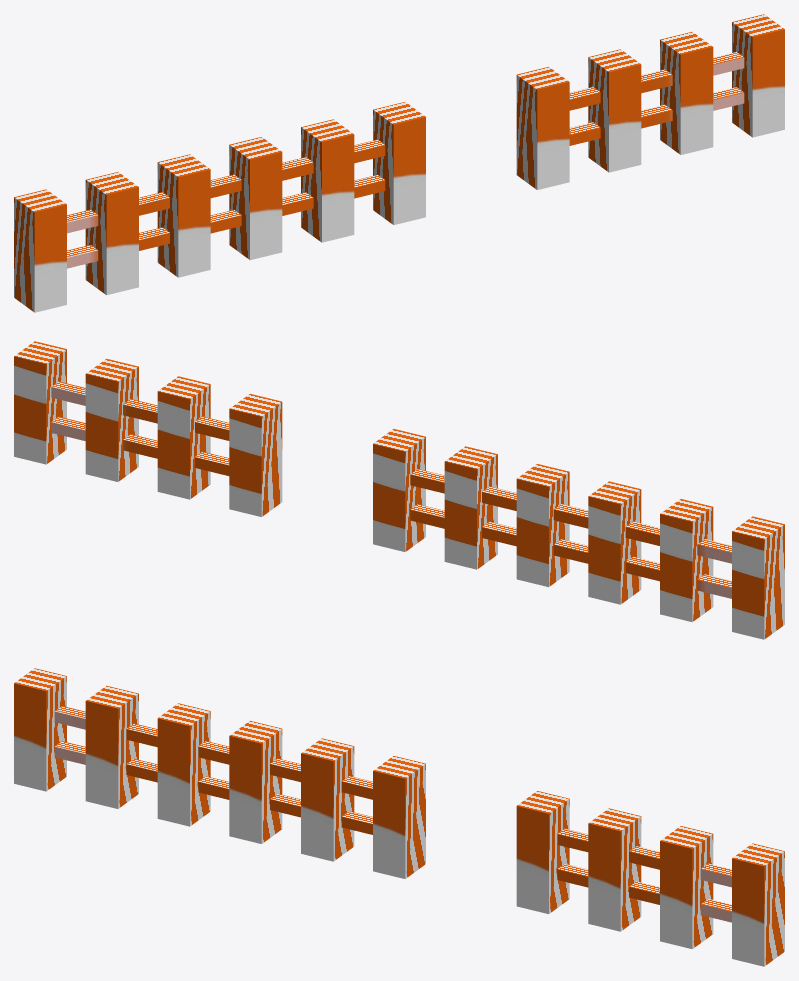
Rendered from Fence3.fbx.
3 views of the same model, one above another, from view 1: azimuth 30°, elevation 25°; view 2: azimuth 150°, elevation 25°; view 3: azimuth 330°, elevation 25° (orthographic).
Visible parts, largest first — view 1: fence_short_mesh; view 2: fence_short_mesh; view 3: fence_short_mesh.
Part boxes in pixels (x1=…): fence_short_mesh: x1=14, y1=14, x2=784, y2=312; fence_short_mesh: x1=14, y1=341, x2=784, y2=639; fence_short_mesh: x1=14, y1=668, x2=784, y2=966.
Bounding box in the file's own units: 836 × 107 × 39.99.
